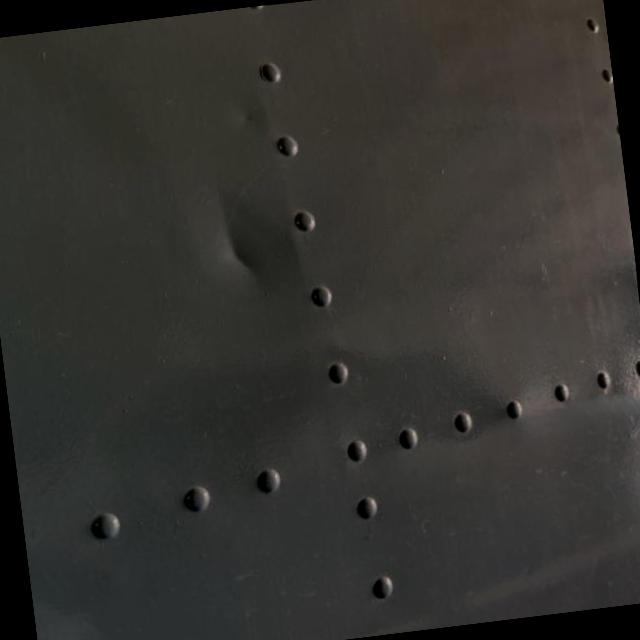dent: (208, 198, 282, 306)
